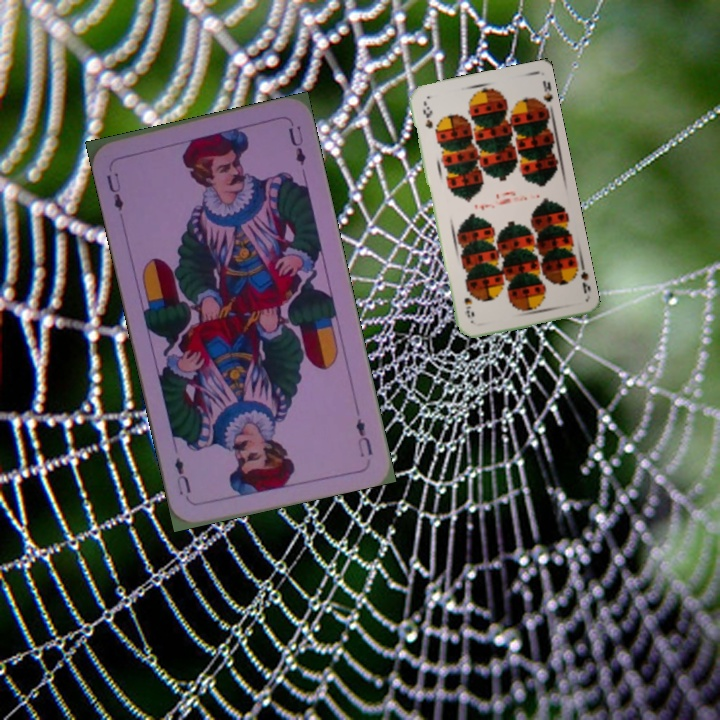EU: (102, 168, 126, 214), (351, 415, 375, 460)
S9: (568, 258, 593, 296), (418, 103, 435, 131)
